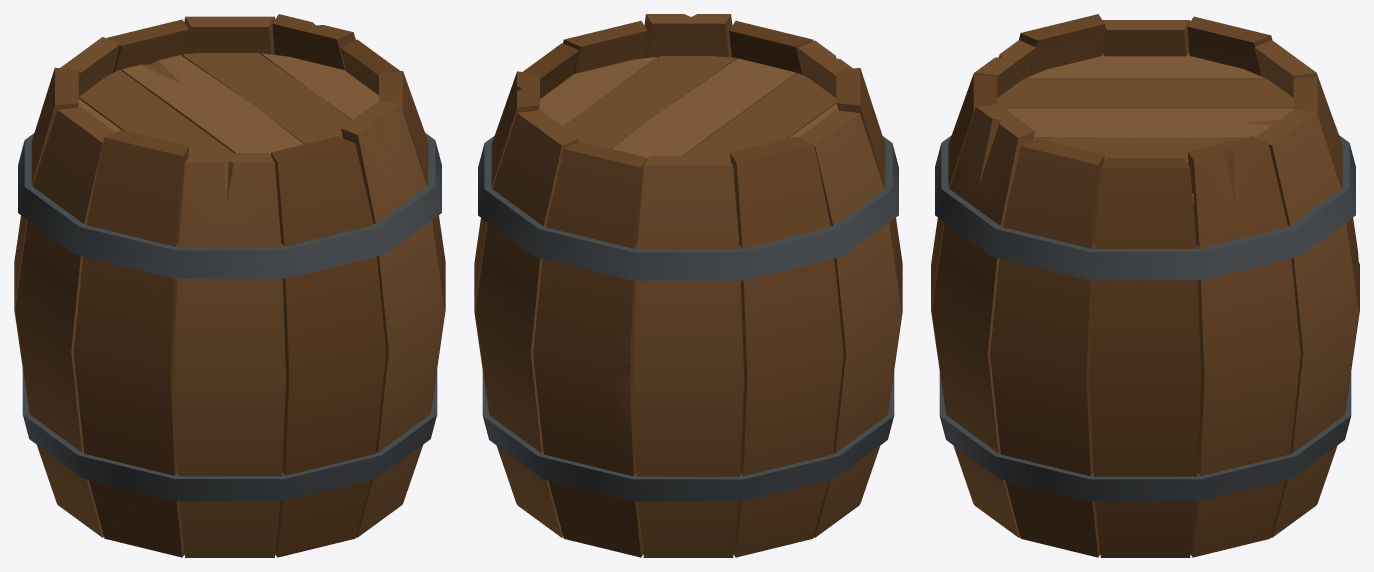
File: Barrel_01.fbx
3 renders of one model, left to right at view 1: azimuth 30°, elevation 25°; view 2: azimuth 150°, elevation 25°; view 3: azimuth 270°, elevation 25°, orthographic.
Visible parts, largest first — view 1: Barrel_01; view 2: Barrel_01; view 3: Barrel_01.
Part boxes in pixels (x1,y1,x2,y2): Barrel_01: (14, 14, 445, 557); Barrel_01: (474, 14, 902, 557); Barrel_01: (931, 14, 1359, 557).
Size of the model in its own units: 74.88 by 76.93 by 74.88.
